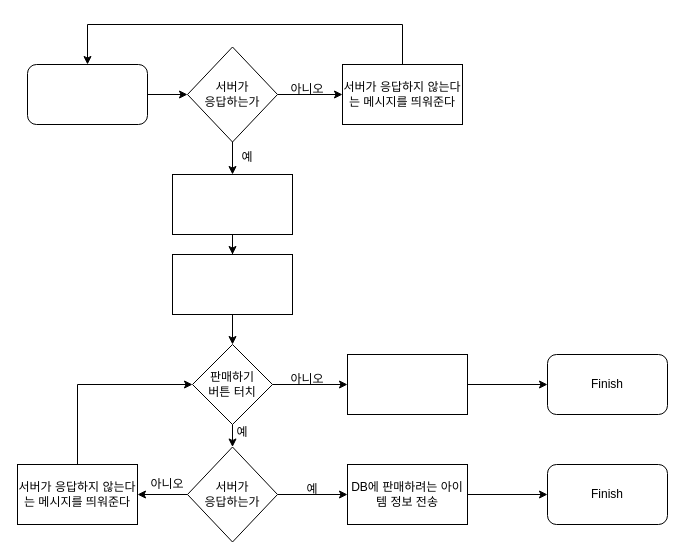
Image size: 685x560. Some labels were removed from this diagram. Here are the shapes that lost their labels. From the top down, the centre of each, then its label:
the point at 87,94: start
the point at 232,204: DB에서 아이템 이름, 아이템 정보를 가져와 텍스트뷰 변경
the point at 232,284: 판매하려는 가격, 수량 입력
the point at 407,384: 내 아이템 화면으로 이동
